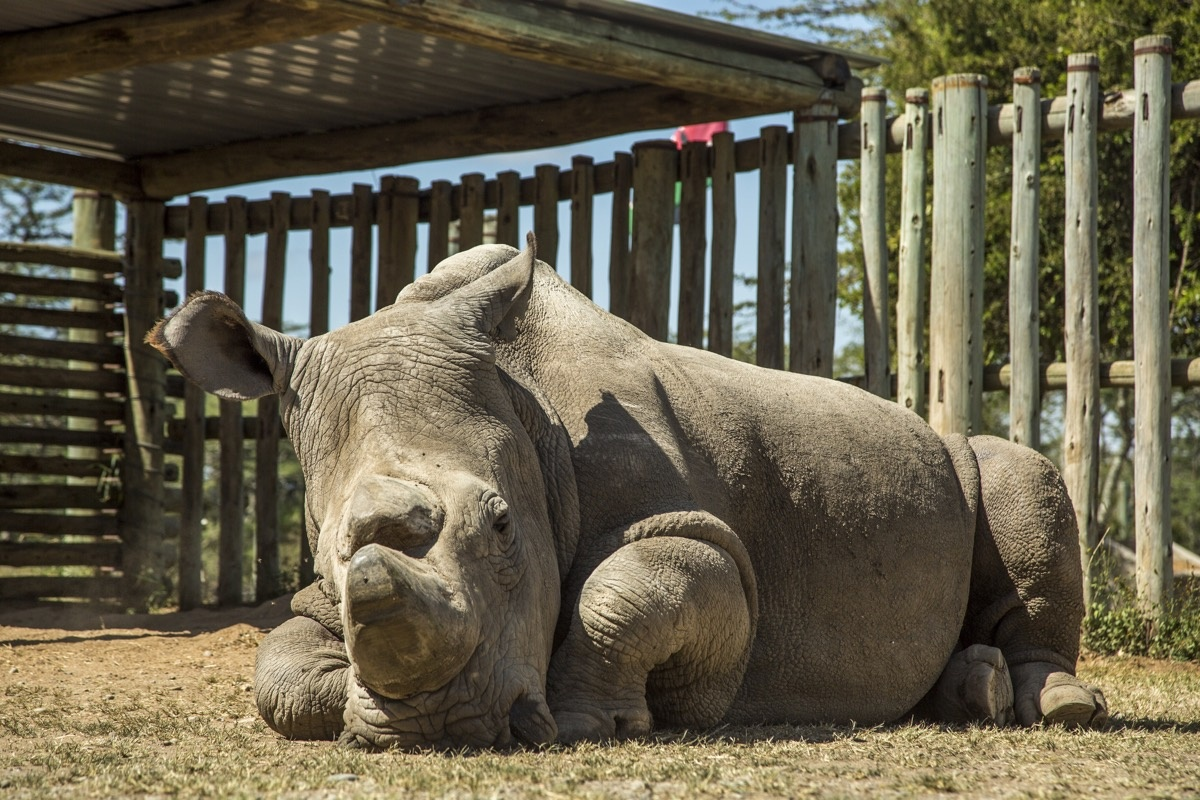rhino: (140, 236, 1099, 756)
